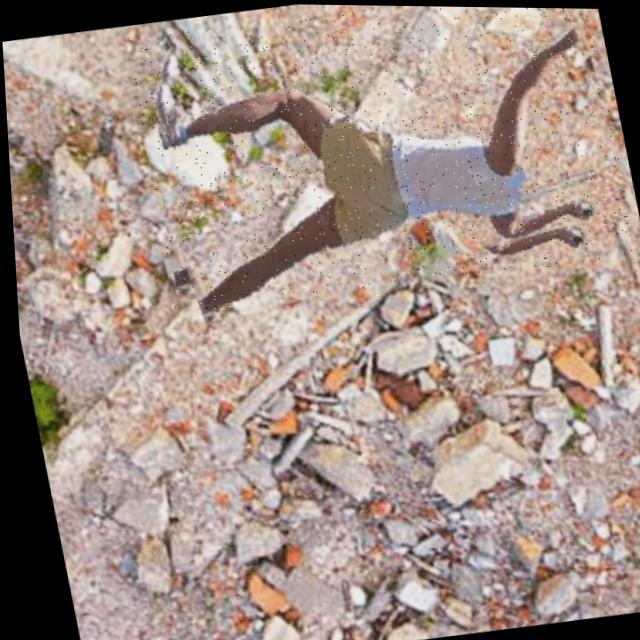Person in Rubble: (118, 1, 636, 318)
